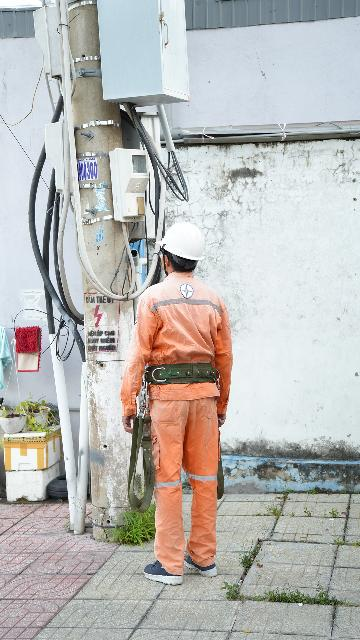harness: (137, 352, 233, 399)
helmet: (161, 212, 222, 273)
shoes: (141, 553, 187, 589), (182, 547, 226, 583)
